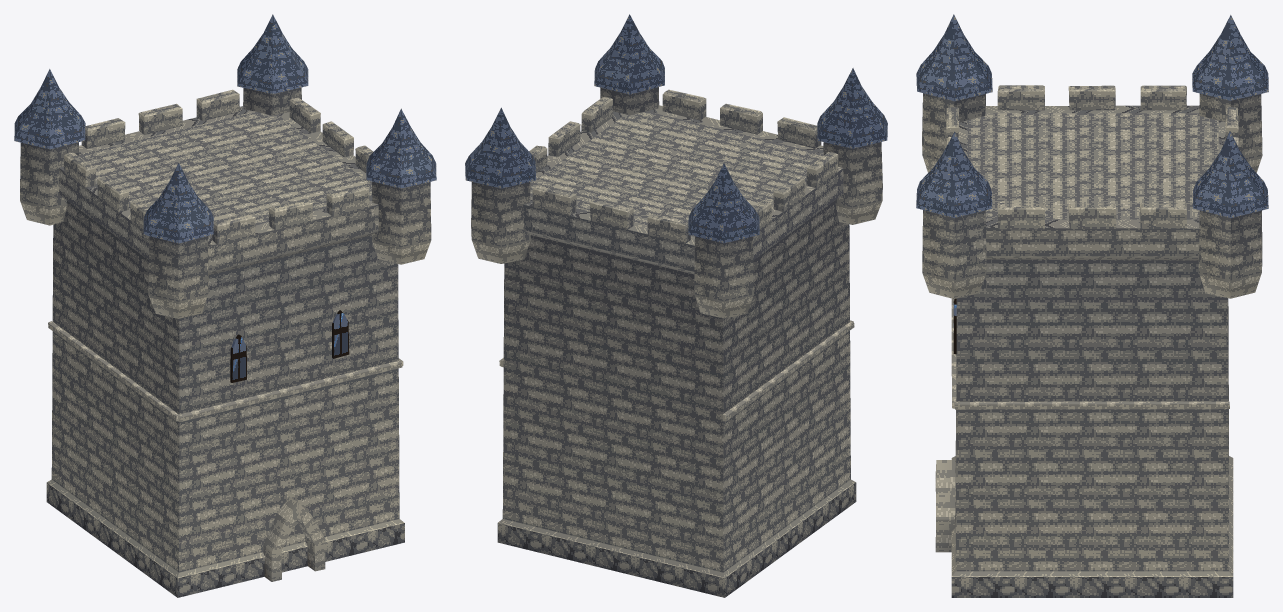
The model's file is cst.keep.glb.
The picture shows the model from 3 angles, left to right: view 1: azimuth 30°, elevation 25°; view 2: azimuth 150°, elevation 25°; view 3: azimuth 270°, elevation 25°; orthographic projection. The views are drawn at different scales.
Visible parts, largest first — view 1: kit_walls, kit_top, kit_detail; view 2: kit_walls, kit_top, kit_detail; view 3: kit_walls, kit_top, kit_detail.
Part boxes in pixels (bbox=[...]): kit_walls: bbox=[46, 201, 404, 597]; kit_top: bbox=[14, 14, 436, 318]; kit_detail: bbox=[48, 310, 403, 581]; kit_walls: bbox=[497, 200, 856, 597]; kit_top: bbox=[465, 14, 887, 318]; kit_detail: bbox=[499, 320, 854, 421]; kit_walls: bbox=[951, 259, 1233, 597]; kit_top: bbox=[916, 14, 1268, 298]; kit_detail: bbox=[935, 298, 1229, 552].
Bounding box in the file's own units: 13.33 × 18.81 × 12.9.
6 materials, 6 textured.
